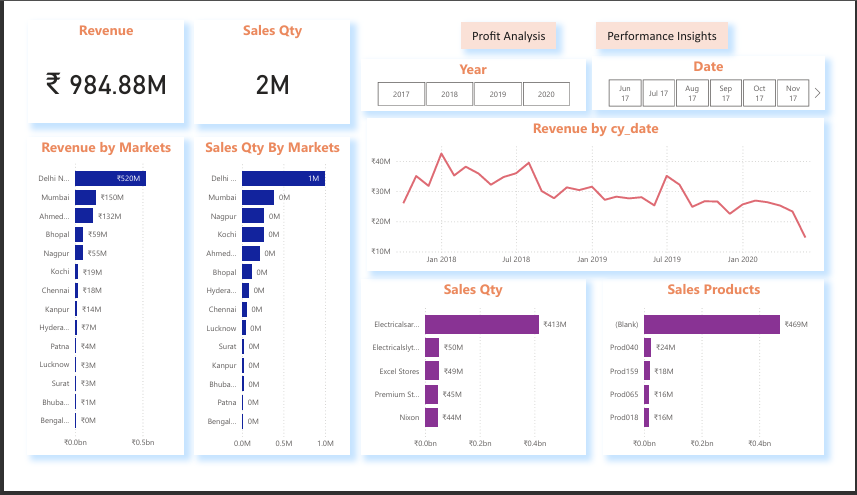

The dashboard page shown, as its layout file describes it:
{"tool":"powerbi","page":{"name":"Key Insights","canvas":[1280,720],"ordinal":0},"visuals":[{"type":"card","title":"Revenue","fields":{"Values":["Base_measure.Revenue"]},"box":[14.3,10,242.9,161.4],"z":0},{"type":"card","title":"Sales Qty","fields":{"Values":["Base_measure.sales Qty"]},"box":[274.4,9.6,242.9,161.9],"z":1000},{"type":"barChart","title":"Revenue by Markets","fields":{"Category":["sales markets.markets_name"],"Y":["Base_measure.Revenue"]},"box":[13.3,191.7,245,496.7],"z":2000},{"type":"barChart","title":"Sales Qty By Markets","fields":{"Y":["Base_measure.sales Qty"],"Category":["sales markets.markets_name"]},"box":[274.4,192.1,242.9,496.7],"z":3000},{"type":"slicer","title":"Year ","fields":{"Values":["sales date.year"]},"box":[534.4,69.7,349.7,80.7],"z":4000},{"type":"slicer","title":"Date","fields":{"Values":["sales date.cy_date"]},"box":[895.1,66,363.2,84.4],"z":5000},{"type":"barChart","title":"Sales Qty","fields":{"Category":["sales customers.custmer_name"],"Y":["Base_measure.Revenue"]},"box":[534.3,414.3,350,274.3],"z":6000},{"type":"barChart","title":"Sales Products","fields":{"Y":["Base_measure.Revenue"],"Category":["sales products.product_code"]},"box":[912.9,414.3,344.3,274.3],"z":7000},{"type":"lineChart","fields":{"Y":["Base_measure.Revenue"],"Category":["sales date.cy_date"]},"box":[544.2,162.6,712.9,238.5],"z":8000},{"type":"actionButton","box":[690.9,12.2,146.7,40.4],"z":8002},{"type":"actionButton","box":[901.2,12.2,205.4,40.4],"z":8003}]}

Visuals, with their boxes in screenshot pixels (x1, y1, x2, y2), scaled from the page's 1280x720 canvas onto the 857x495 screenshot:
"Revenue" card: bbox=(10, 7, 172, 118)
"Sales Qty" card: bbox=(184, 7, 346, 118)
"Revenue by Markets" barChart: bbox=(9, 132, 173, 473)
"Sales Qty By Markets" barChart: bbox=(184, 132, 346, 474)
"Year " slicer: bbox=(358, 48, 592, 103)
"Date" slicer: bbox=(599, 45, 842, 103)
"Sales Qty" barChart: bbox=(358, 285, 592, 473)
"Sales Products" barChart: bbox=(611, 285, 842, 473)
lineChart - Base_measure.Revenue x sales date.cy_date: bbox=(364, 112, 842, 276)
actionButton: bbox=(463, 8, 561, 36)
actionButton: bbox=(603, 8, 741, 36)
